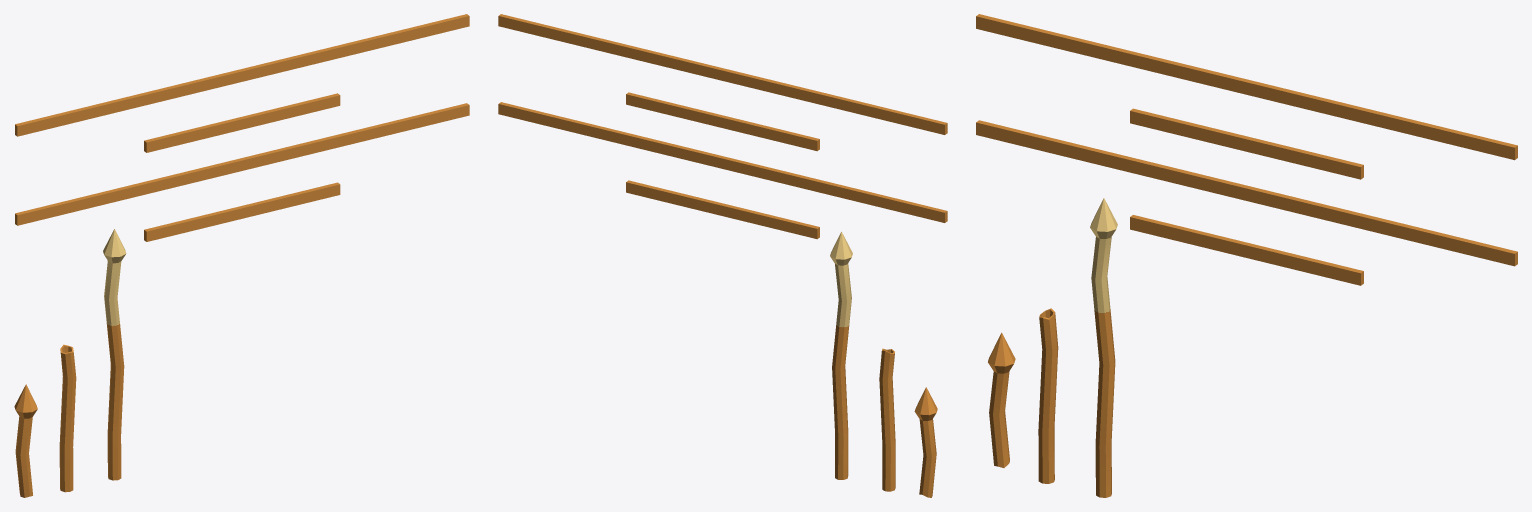
Rendered from barreaux_kit_or.fbx.
3 views of the same model, side by side, from view 1: azimuth 30°, elevation 25°; view 2: azimuth 150°, elevation 25°; view 3: azimuth 330°, elevation 25° (orthographic). The views are drawn at different scales.
Parts seen in each view (by area): view 1: barriere_grande, barriere_grande3, barreaux_entier, barriere_petite, barriere_petite3, barreaux_casse_bas, barreaux_casse_haut; view 2: barriere_grande, barriere_grande3, barreaux_entier, barriere_petite, barriere_petite3, barreaux_casse_bas, barreaux_casse_haut; view 3: barriere_grande, barriere_grande3, barreaux_entier, barriere_petite3, barriere_petite, barreaux_casse_bas, barreaux_casse_haut.
Boxes of the visible parts, x1,y1,x2,y2 form: barriere_grande: [15, 103, 469, 225]; barriere_grande3: [15, 14, 469, 136]; barreaux_entier: [103, 229, 126, 480]; barriere_petite: [144, 182, 340, 241]; barriere_petite3: [144, 93, 340, 152]; barreaux_casse_bas: [59, 344, 76, 492]; barreaux_casse_haut: [14, 384, 37, 497]; barriere_grande: [498, 102, 947, 222]; barriere_grande3: [498, 14, 947, 134]; barreaux_entier: [830, 231, 852, 479]; barriere_petite: [626, 180, 819, 239]; barriere_petite3: [626, 92, 819, 151]; barreaux_casse_bas: [879, 348, 895, 491]; barreaux_casse_haut: [914, 387, 937, 497]; barriere_grande: [976, 120, 1517, 266]; barriere_grande3: [976, 14, 1517, 160]; barreaux_entier: [1090, 198, 1117, 497]; barriere_petite3: [1130, 108, 1363, 179]; barriere_petite: [1130, 215, 1363, 285]; barreaux_casse_bas: [1038, 308, 1058, 483]; barreaux_casse_haut: [988, 332, 1015, 467].
Bounding box in the file's own units: 8.29 × 6.66 × 0.429.
Materials: 1 (1 with a texture image).
